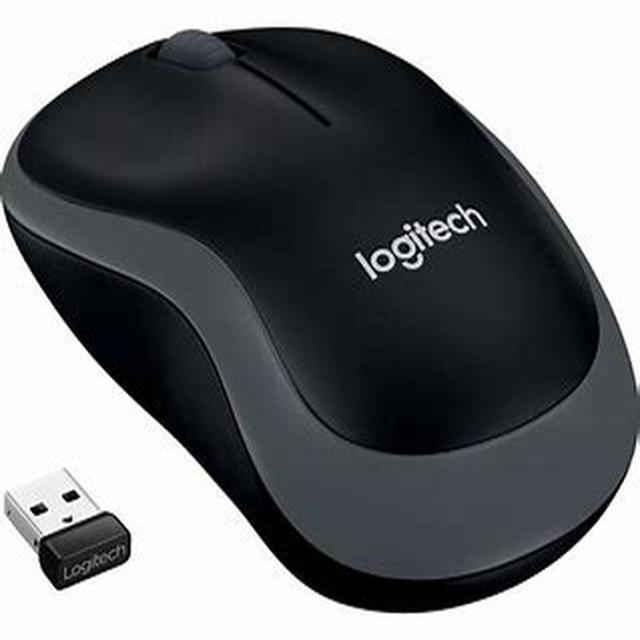mouse: (2, 8, 640, 614)
